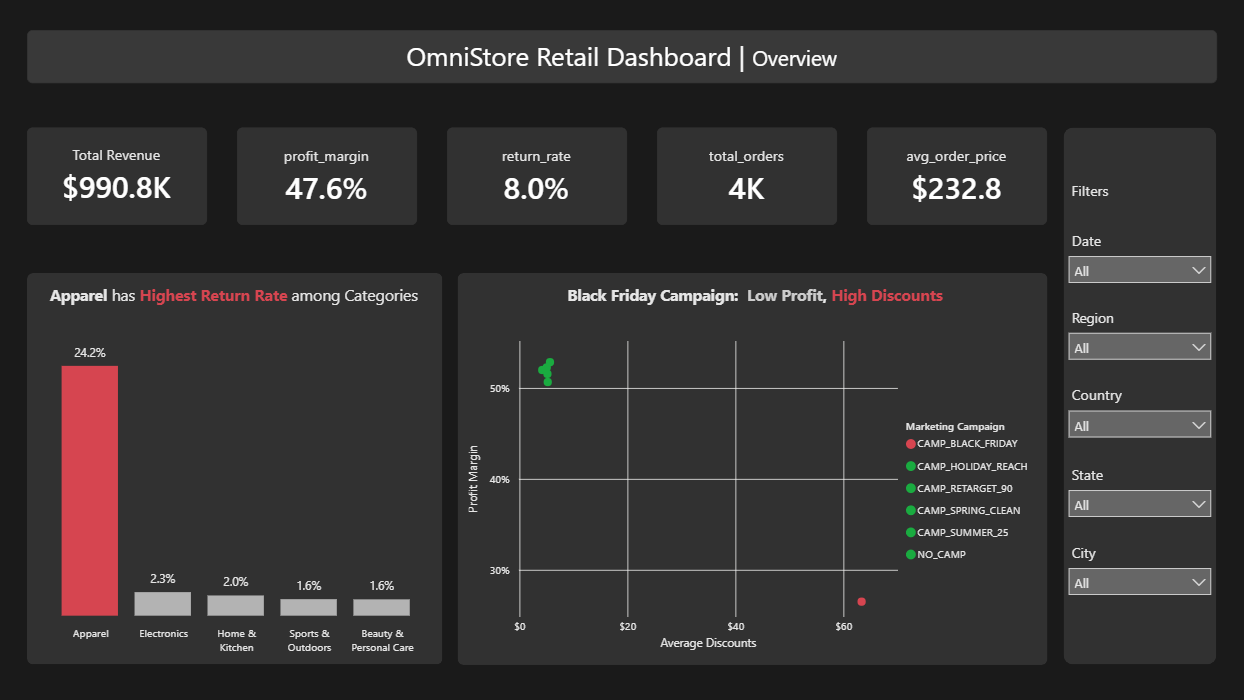

Layout of this report page (visuals, bound fields, positions):
{"tool":"powerbi","page":{"name":"Overview","canvas":[1280,720],"ordinal":0},"visuals":[{"type":"cardVisual","fields":{"Data":["_calculations.total_revenue"]},"box":[30.3,130.7,184.7,99.9],"z":0},{"type":"columnChart","title":"Apparel is Highest","fields":{"Y":["_calculations.return_rate"],"Category":["retail_ecom_data.product_category"]},"box":[20.6,337.3,440,341.2],"z":0,"group":"g3"},{"type":"textbox","box":[32.5,286.2,421.2,38.4],"z":7,"group":"g3"},{"type":"shape","box":[30.7,280,426.2,401.5],"z":500,"group":"g1"},{"type":"textbox","box":[30.3,30.3,1220.4,54.5],"z":1000},{"type":"cardVisual","fields":{"Data":["_calculations.profit_margin"]},"box":[245.9,130.7,184.6,100],"z":2000},{"type":"cardVisual","fields":{"Data":["_calculations.return_rate"]},"box":[461.4,130.7,184.6,100],"z":3000},{"type":"shape","box":[472.3,280,605.2,402],"z":3500,"group":"g2"},{"type":"cardVisual","fields":{"Data":["_calculations.total_orders"]},"box":[676.8,130.7,184.6,100],"z":4000},{"type":"cardVisual","fields":{"Data":["_calculations.avg_order_value"]},"box":[892.3,130.7,184.6,100],"z":5000},{"type":"group","id":"g1","title":"Group 3","box":[20.6,280,440,401.5],"z":6000},{"type":"scatterChart","fields":{"Category":["retail_ecom_data.marketing_campaign"],"Y":["_calculations.profit_margin"],"X":["_calculations.avg_discount_amount"],"Series":["retail_ecom_data.marketing_campaign"]},"box":[478.3,336.7,593.6,334.8],"z":6000,"group":"g2"},{"type":"group","id":"g2","title":"Group 2","box":[472.3,280,604.6,401.5],"z":7000},{"type":"group","id":"g3","title":"Group 1","box":[20.6,286.2,440,392.3],"z":7000,"group":"g1"},{"type":"shape","box":[1093.8,130.8,156.9,550.8],"z":8000},{"type":"textbox","box":[489.7,285.6,576.3,36.8],"z":8000,"group":"g2"},{"type":"slicer","fields":{"Values":["calender.Year","calender.Month"]},"box":[1089.1,230.5,166,77.2],"z":9000},{"type":"slicer","fields":{"Values":["retail_ecom_data.customer_country"]},"box":[1089.2,389.8,166,78.5],"z":10000},{"type":"slicer","fields":{"Values":["retail_ecom_data.customer_state"]},"box":[1089.2,470.8,166,76.9],"z":11000},{"type":"slicer","fields":{"Values":["retail_ecom_data.customer_city"]},"box":[1089.2,550.3,166,76.9],"z":12000},{"type":"slicer","fields":{"Values":["retail_ecom_data.region"]},"box":[1089.2,310.3,166,76.9],"z":13000},{"type":"textbox","box":[1096.9,186.2,69.2,43.1],"z":13001}]}

Visuals, with their boxes in screenshot pixels (x1, y1, x2, y2), scaled from the page's 1280x720 canvas onto the 1244x700 screenshot:
cardVisual - _calculations.total_revenue: (left=29, top=127, right=209, bottom=224)
"Apparel is Highest" columnChart: (left=20, top=328, right=448, bottom=660)
textbox: (left=32, top=278, right=441, bottom=316)
shape: (left=30, top=272, right=444, bottom=663)
textbox: (left=29, top=29, right=1216, bottom=82)
cardVisual - _calculations.profit_margin: (left=239, top=127, right=418, bottom=224)
cardVisual - _calculations.return_rate: (left=448, top=127, right=628, bottom=224)
shape: (left=459, top=272, right=1047, bottom=663)
cardVisual - _calculations.total_orders: (left=658, top=127, right=837, bottom=224)
cardVisual - _calculations.avg_order_value: (left=867, top=127, right=1047, bottom=224)
"Group 3" group: (left=20, top=272, right=448, bottom=663)
scatterChart - retail_ecom_data.marketing_campaign x _calculations.profit_margin: (left=465, top=327, right=1042, bottom=653)
"Group 2" group: (left=459, top=272, right=1047, bottom=663)
"Group 1" group: (left=20, top=278, right=448, bottom=660)
shape: (left=1063, top=127, right=1216, bottom=663)
textbox: (left=476, top=278, right=1036, bottom=313)
slicer - calender.Year x calender.Month: (left=1058, top=224, right=1220, bottom=299)
slicer - retail_ecom_data.customer_country: (left=1059, top=379, right=1220, bottom=455)
slicer - retail_ecom_data.customer_state: (left=1059, top=458, right=1220, bottom=532)
slicer - retail_ecom_data.customer_city: (left=1059, top=535, right=1220, bottom=610)
slicer - retail_ecom_data.region: (left=1059, top=302, right=1220, bottom=376)
textbox: (left=1066, top=181, right=1133, bottom=223)
